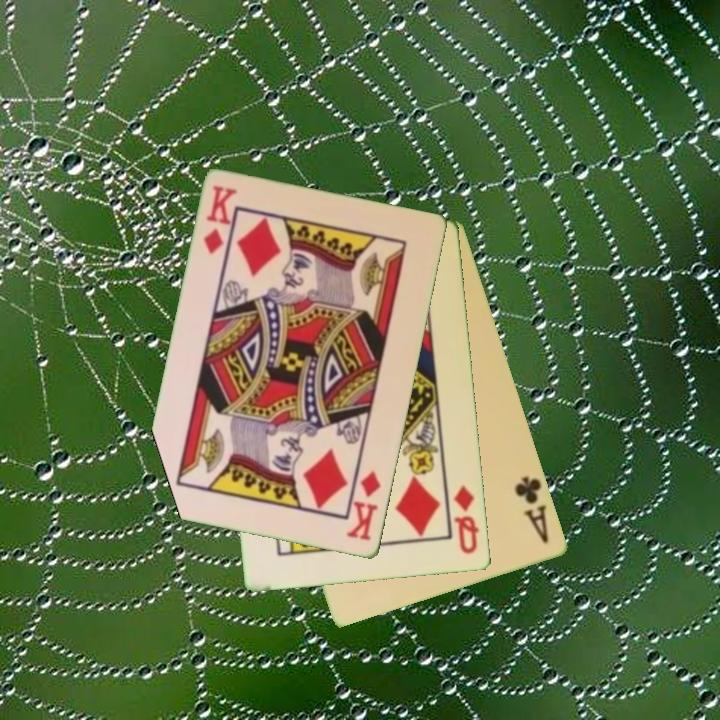Ac: (511, 473, 552, 547)
Kd: (343, 467, 384, 544), (200, 182, 240, 258)
Qd: (450, 481, 483, 558)
